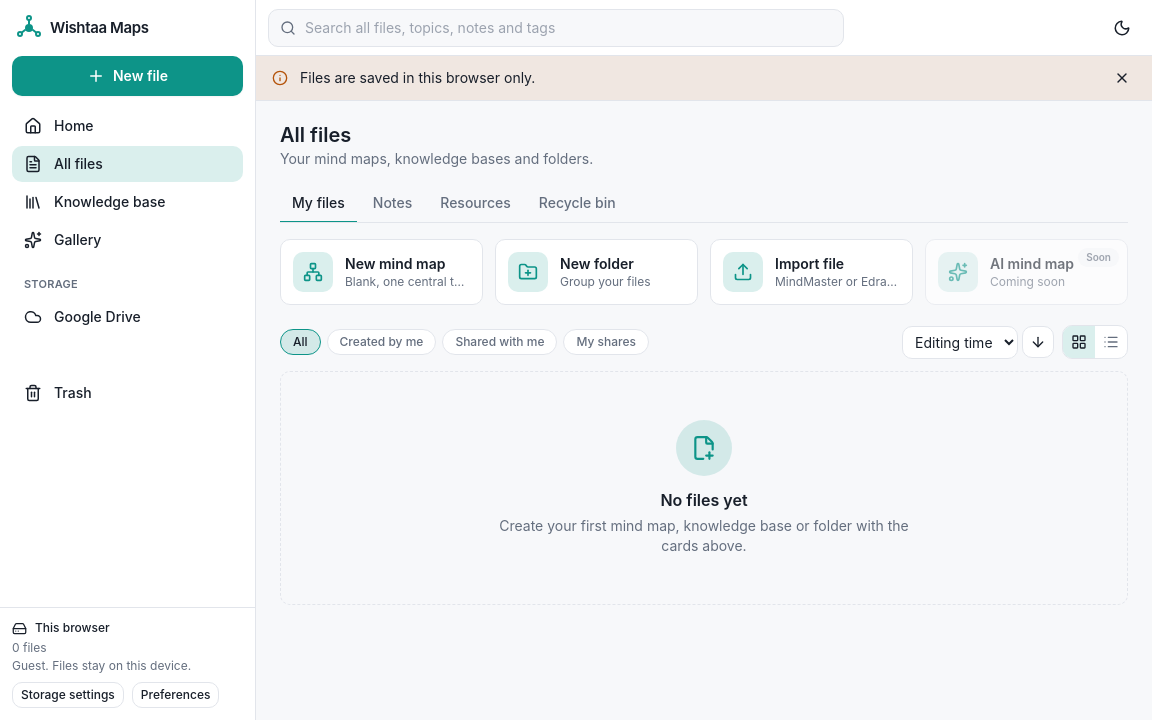
Scenario: New file dialog › creates a folder by name
Click the button "New folder Group your files" at [596, 272], box [495, 239, 698, 305]
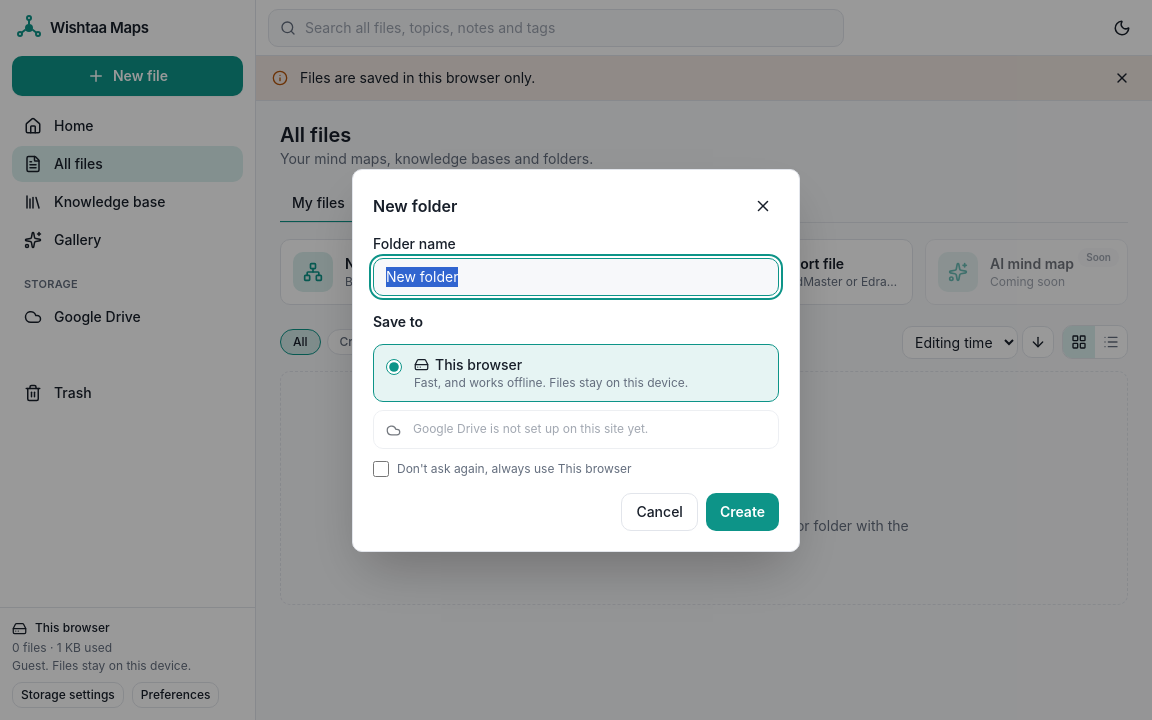
Replace the text in the field with "Projects" at [576, 276], box [373, 258, 779, 296]
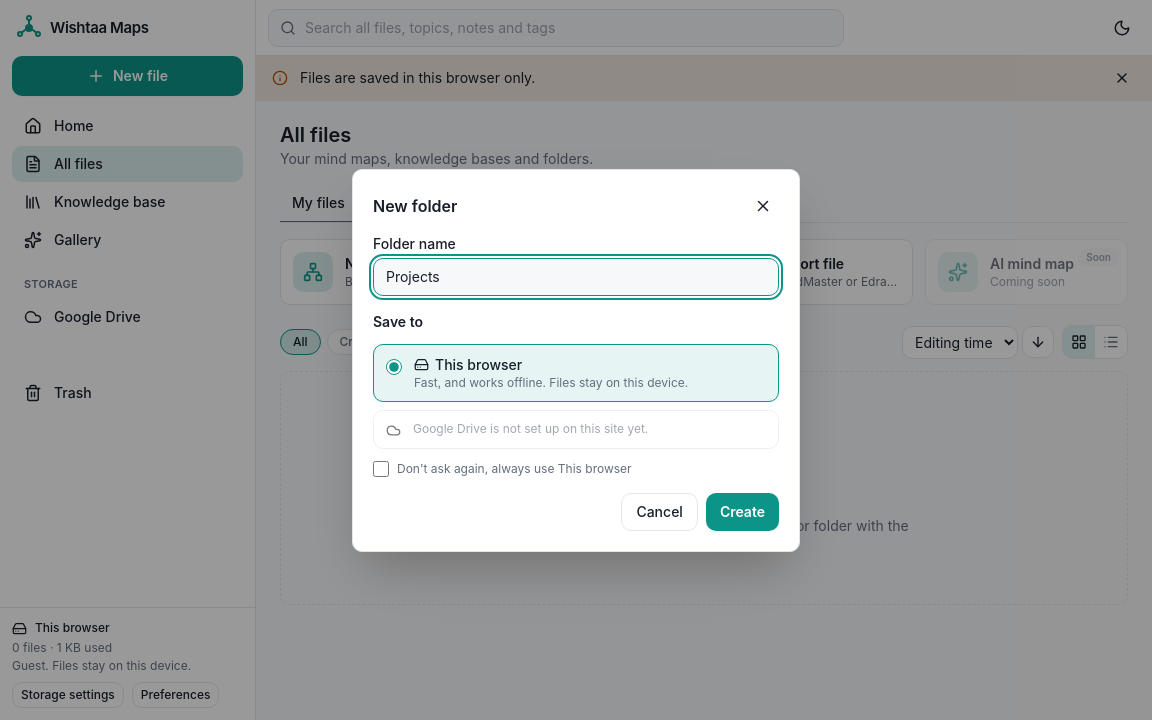
Click the button "Create" at [742, 512], box [706, 492, 779, 530]
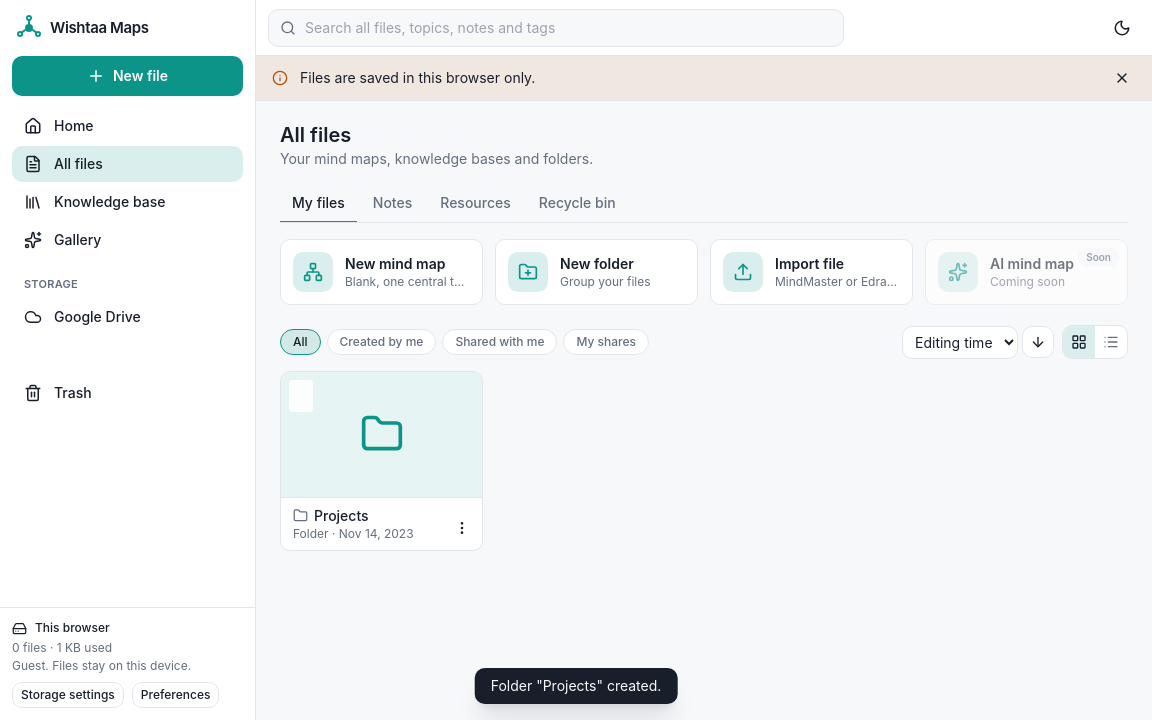
Check: the button with aria-label "Open Projects" is shown, box [281, 372, 482, 550]
